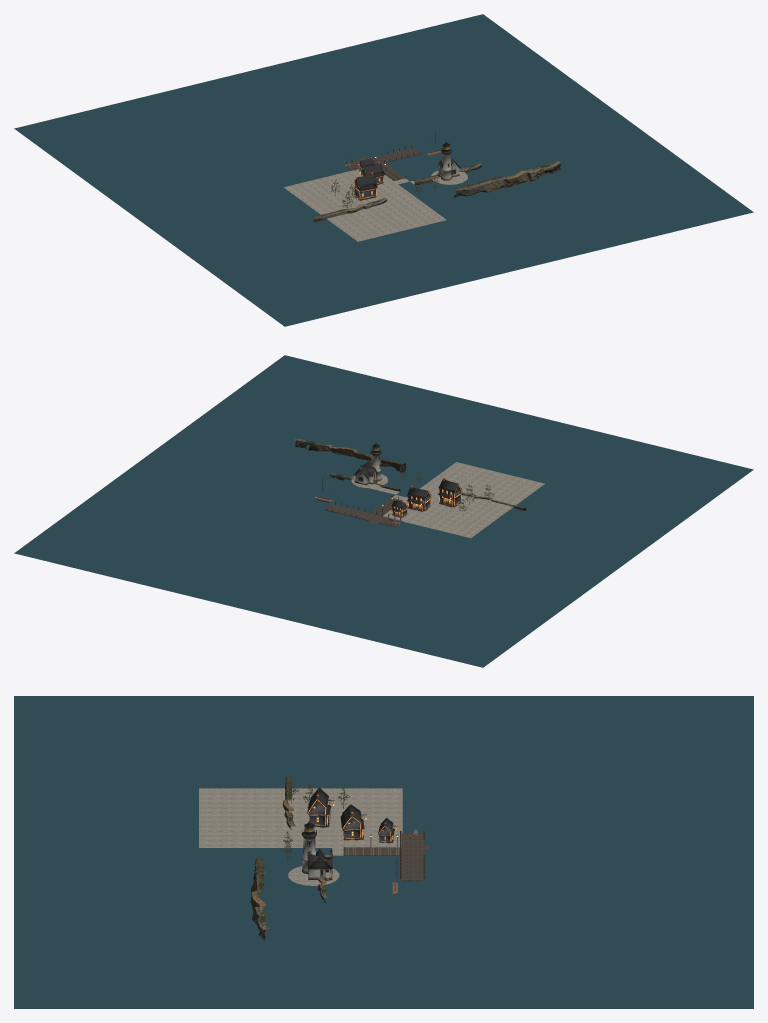
Rendered from bellweather-harbor-v5.glb.
The picture shows the model from 3 angles, top to bottom: view 1: azimuth 30°, elevation 25°; view 2: azimuth 150°, elevation 25°; view 3: azimuth 270°, elevation 25°; orthographic projection. The views are drawn at different scales.
Visible parts, largest first — view 1: Sculpted harbor water, Harbor stone quay, CC0 scanned outer headland, Tripo Lighthouse and Keeper Cottage, Tripo Harbor rooms; view 2: Sculpted harbor water, Harbor stone quay, CC0 scanned outer headland, Tripo Lighthouse and Keeper Cottage, Main wet timber pier, Tripo Harbor rooms; view 3: Sculpted harbor water, Harbor stone quay, Tripo Lighthouse and Keeper Cottage, Main wet timber pier, CC0 scanned outer headland, Tripo Harbor rooms, Tripo Turner chandlery.
Boxes of the visible parts, x1,y1,x2,y2 form: Sculpted harbor water: (14, 14, 753, 326); Harbor stone quay: (284, 169, 446, 241); CC0 scanned outer headland: (453, 160, 560, 197); Tripo Lighthouse and Keeper Cottage: (437, 142, 460, 180); Tripo Harbor rooms: (353, 172, 377, 200); Sculpted harbor water: (14, 355, 753, 667); Harbor stone quay: (383, 462, 544, 537); CC0 scanned outer headland: (293, 439, 406, 472); Tripo Lighthouse and Keeper Cottage: (354, 442, 381, 485); Main wet timber pier: (324, 504, 402, 527); Tripo Harbor rooms: (438, 478, 462, 507); Sculpted harbor water: (14, 696, 753, 1008); Harbor stone quay: (199, 788, 402, 855); Tripo Lighthouse and Keeper Cottage: (301, 820, 332, 880); Main wet timber pier: (402, 833, 423, 881); CC0 scanned outer headland: (250, 857, 269, 940); Tripo Harbor rooms: (307, 787, 334, 827); Tripo Turner chandlery: (340, 804, 366, 840).
Bounding box in the file's own units: 200 × 18.71 × 200.
Materials: 15 (9 with a texture image).
